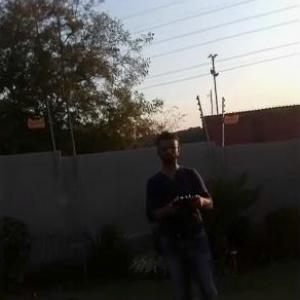follow: (141, 126, 224, 299)
